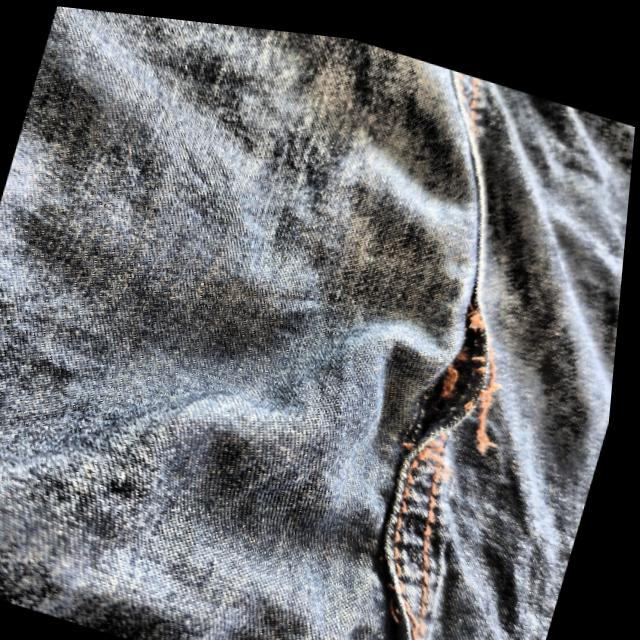seam: (392, 264, 537, 486), (341, 533, 476, 640)
